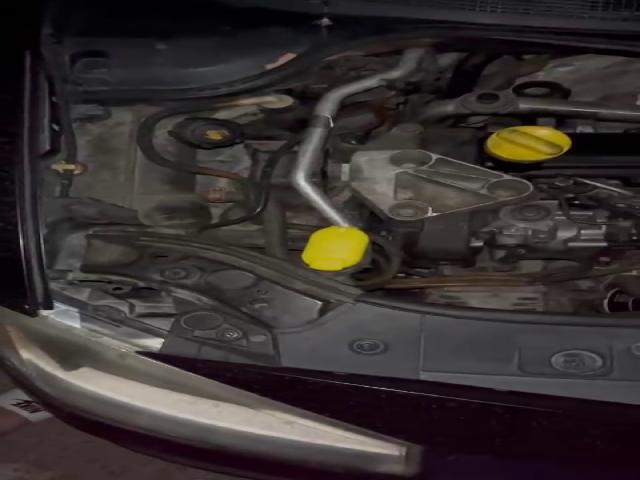antifreeze_tank: (71, 105, 227, 233), (152, 112, 245, 165)
